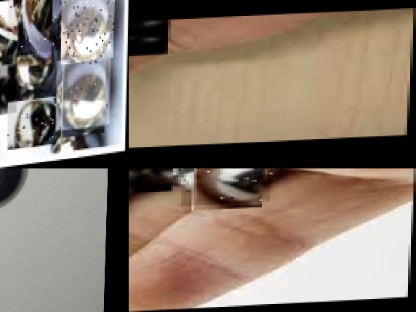ironball: (56, 56, 111, 132), (60, 0, 114, 65), (181, 168, 272, 205), (7, 0, 62, 55), (7, 96, 56, 148), (128, 18, 169, 54), (128, 168, 173, 191), (0, 62, 17, 113)
